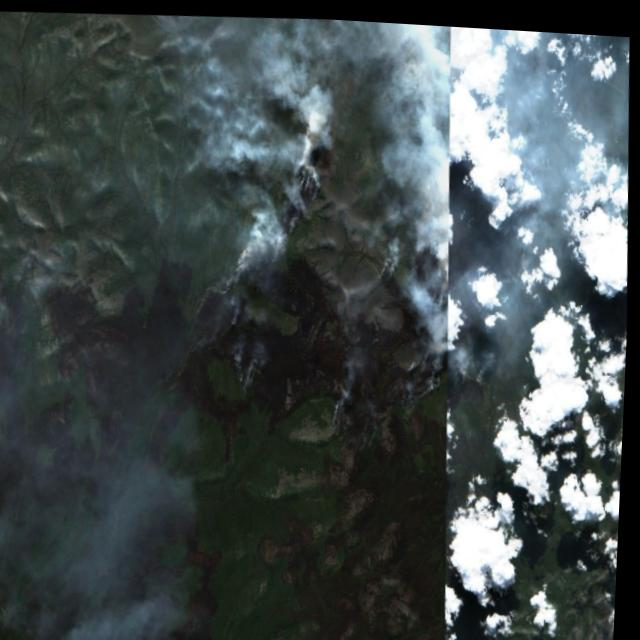fire: (189, 111, 344, 401), (364, 192, 458, 415)
